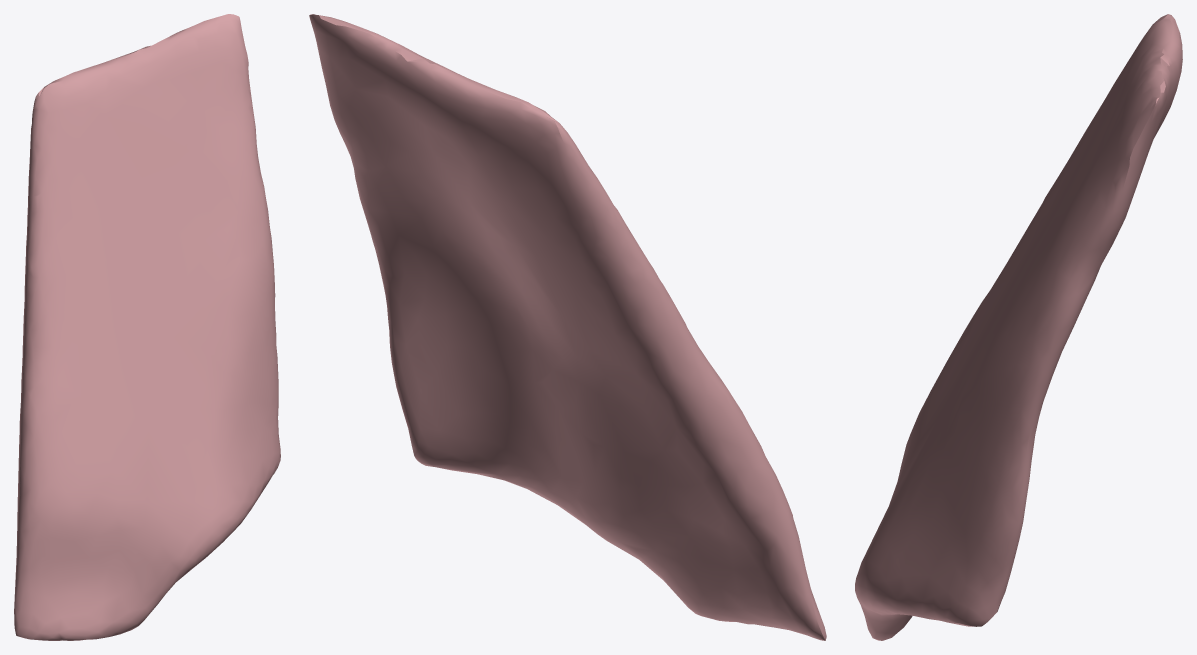
The model's file is fma297772_mm1826.glb.
3 renders of one model, left to right at view 1: azimuth 30°, elevation 25°; view 2: azimuth 150°, elevation 25°; view 3: azimuth 270°, elevation 25°, orthographic. The views are drawn at different scales.
Parts seen in each view (by area): view 1: FMA297772_MM1826; view 2: FMA297772_MM1826; view 3: FMA297772_MM1826.
Part boxes in pixels (x1=…): FMA297772_MM1826: x1=14, y1=14, x2=280, y2=640; FMA297772_MM1826: x1=309, y1=14, x2=826, y2=640; FMA297772_MM1826: x1=855, y1=14, x2=1182, y2=640.
Bounding box in the file's own units: 0.0342 × 0.0515 × 0.0224.
